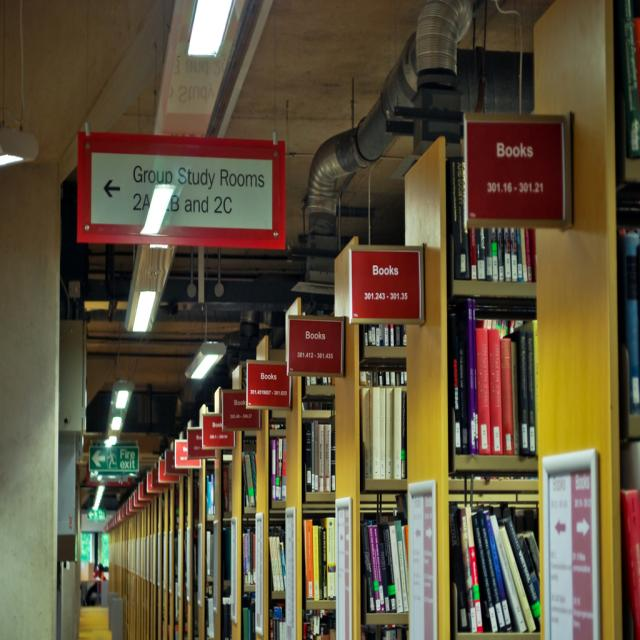Book: (449, 296, 540, 462), (445, 156, 547, 282), (473, 509, 543, 633), (358, 383, 412, 482), (361, 526, 414, 618), (294, 411, 342, 496), (302, 512, 336, 604), (459, 505, 475, 629), (358, 323, 411, 350), (268, 535, 290, 595), (240, 447, 260, 506), (270, 432, 283, 500), (243, 526, 256, 586), (269, 607, 290, 640)
